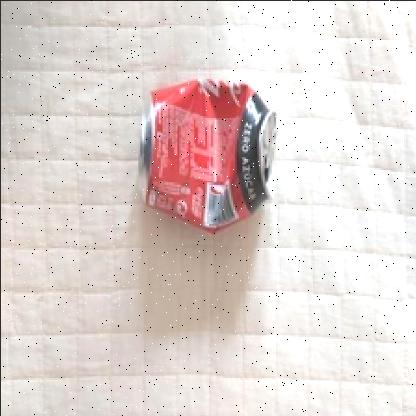Can: (134, 72, 282, 237)
